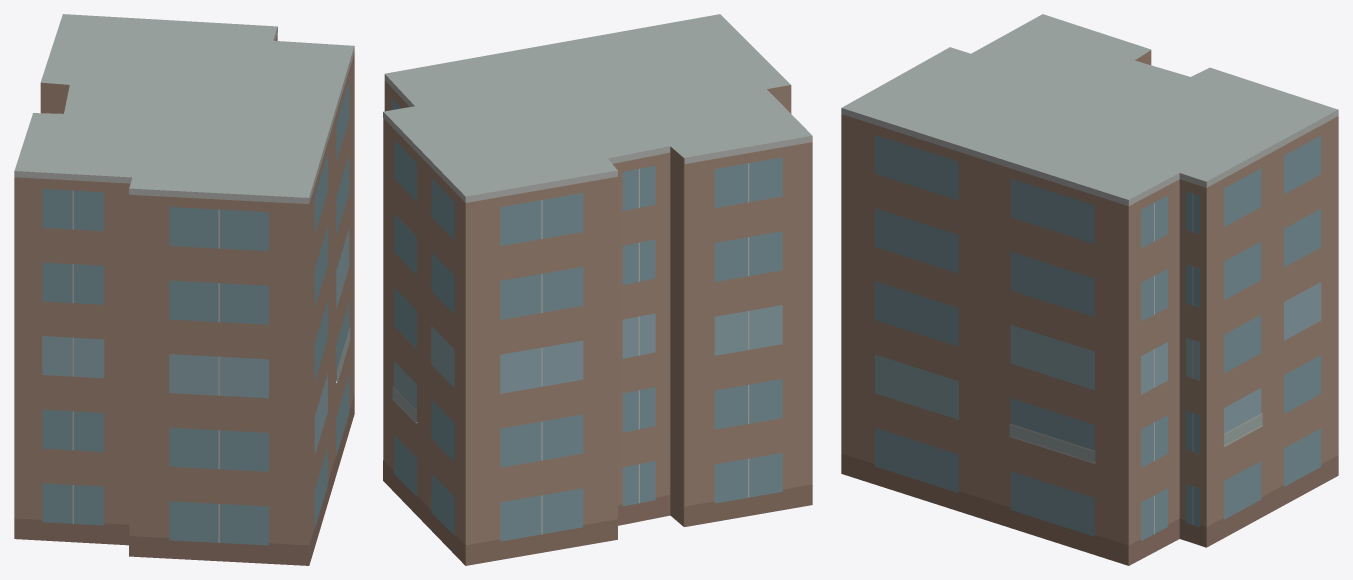
The model's file is survey-upis-32622077.glb.
The picture shows the model from 3 angles, left to right: view 1: azimuth 30°, elevation 25°; view 2: azimuth 150°, elevation 25°; view 3: azimuth 270°, elevation 25°; orthographic projection.
Visible parts, largest first — view 1: survey-upis-32622077.tmp; view 2: survey-upis-32622077.tmp; view 3: survey-upis-32622077.tmp.
Part boxes in pixels (x1,y1,x2,y2): survey-upis-32622077.tmp: (14, 14, 354, 565); survey-upis-32622077.tmp: (383, 14, 812, 565); survey-upis-32622077.tmp: (841, 14, 1338, 565).
Bounding box in the file's own units: 15.71 × 14.4 × 17.74.
